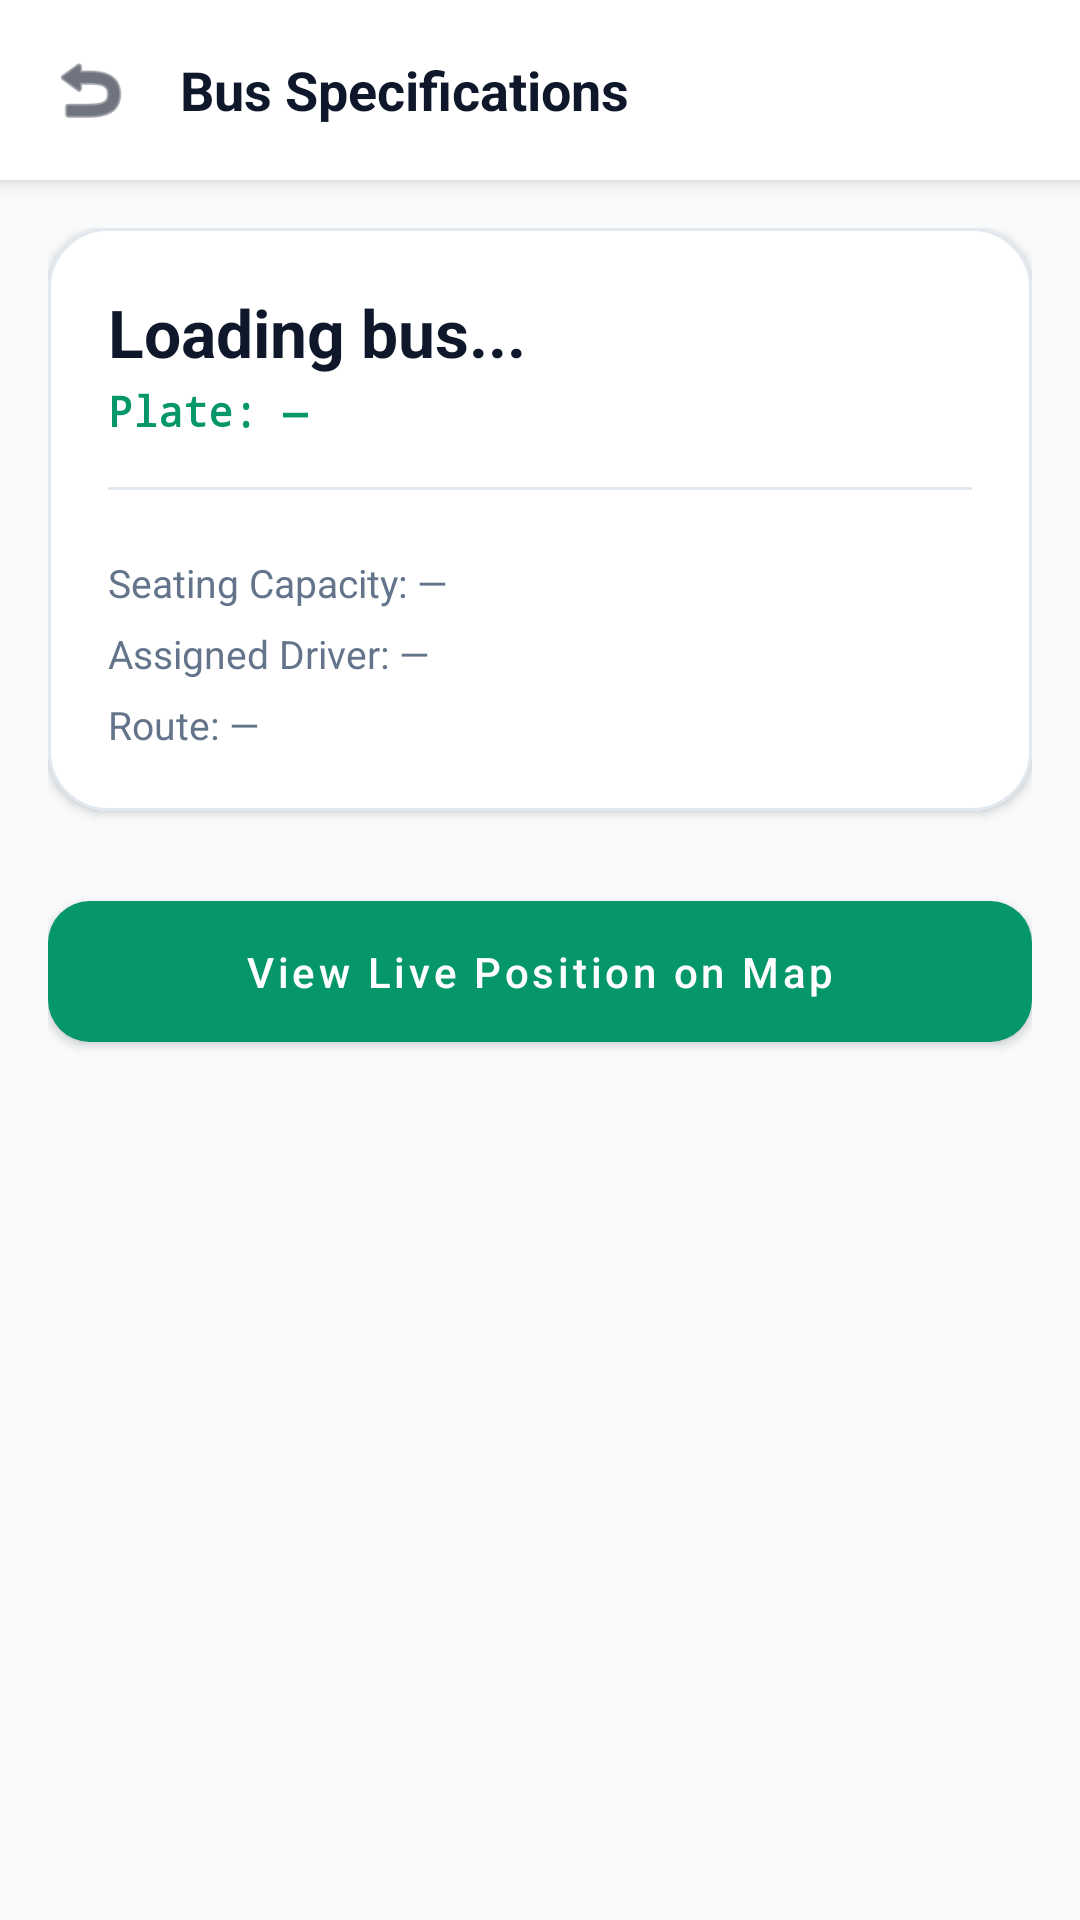

Icon bounding boxes for this 1080 × 1920 phone screenshot, format bbox=(x1, y1, x2, y2):
revert: bbox=(61, 63, 121, 118)
